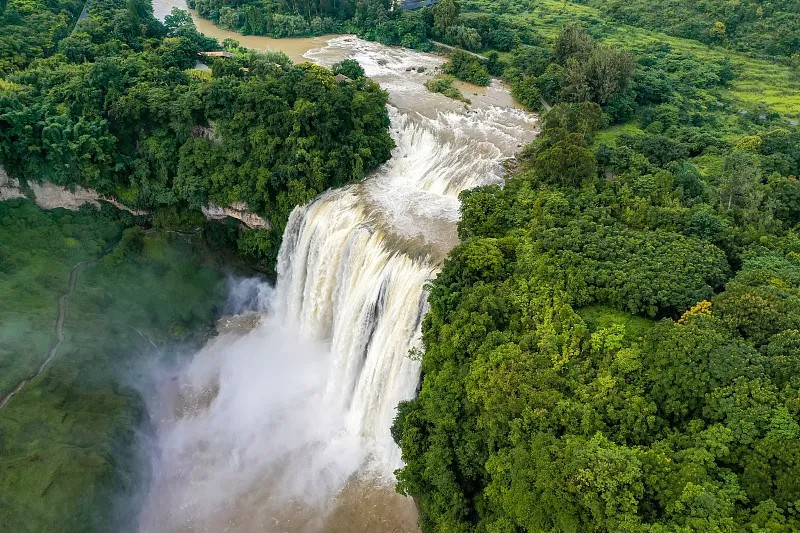Huangguoshu: (270, 182, 460, 458)
